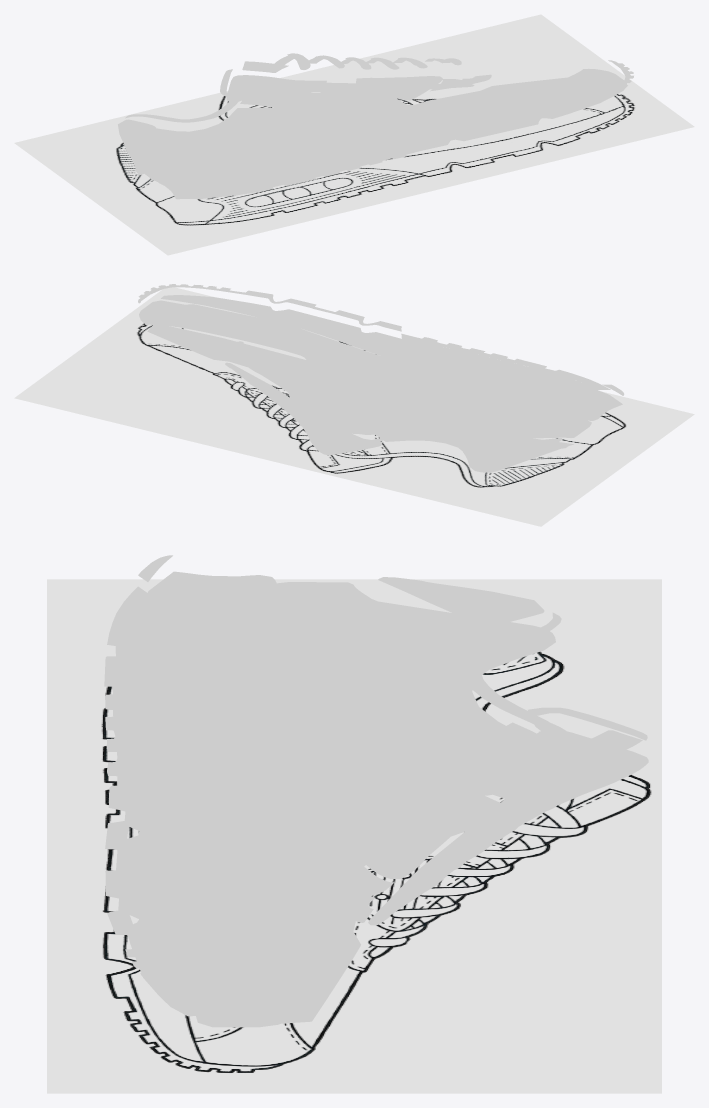
File: nikeAirMAx90.FBX
3 renders of one model, top to bottom at view 1: azimuth 30°, elevation 25°; view 2: azimuth 150°, elevation 25°; view 3: azimuth 270°, elevation 25°, orthographic. The views are drawn at different scales.
Visible parts, largest first — view 1: Plane001, Line006, Line002, Line007, Line010, Line001, Line014, Line003, Line008, Line025, Line012, Line004 (+5 smaller); view 2: Plane001, Line006, Line001, Line010, Line007, Line002, Line015, Line003, Line008, Line025, Line012, Line014 (+4 smaller); view 3: Plane001, Line006, Line001, Line007, Line002, Line010, Line015, Line003, Line025, Line008, Line014, Line012 (+6 smaller).
Part boxes in pixels (box(x1,y1,x2,y2)): Plane001: box(14, 14, 694, 255); Line006: box(138, 87, 600, 181); Line002: box(223, 68, 626, 133); Line007: box(198, 141, 425, 197); Line010: box(157, 83, 627, 199); Line001: box(131, 77, 566, 175); Line014: box(356, 76, 442, 100); Line003: box(223, 101, 373, 130); Line008: box(177, 60, 633, 193); Line025: box(272, 53, 461, 69); Line012: box(246, 147, 352, 175); Line004: box(223, 124, 317, 142); Plane001: box(14, 287, 694, 526); Line006: box(181, 304, 591, 439); Line001: box(147, 325, 573, 472); Line010: box(161, 295, 622, 420); Line007: box(401, 333, 610, 406); Line002: box(139, 300, 459, 434); Line015: box(225, 362, 382, 455); Line003: box(335, 374, 458, 421); Line008: box(138, 284, 624, 395); Line025: box(231, 341, 342, 410); Line012: box(446, 352, 551, 381); Line014: box(246, 361, 314, 392); Plane001: box(47, 579, 661, 1093); Line006: box(183, 582, 435, 999); Line001: box(280, 599, 555, 1023); Line007: box(104, 586, 277, 792); Line002: box(196, 679, 536, 1027); Line010: box(118, 571, 283, 1016); Line015: box(368, 731, 648, 925); Line003: box(309, 674, 423, 805); Line025: box(369, 721, 584, 866); Line008: box(105, 555, 276, 1009); Line014: box(331, 806, 476, 878); Line012: box(151, 626, 198, 727).
Bounding box in the file's own units: 277 × 20.44 × 140.
